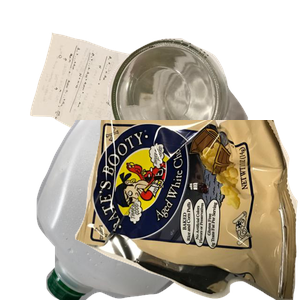glass: (105, 36, 300, 201)
paper: (27, 30, 203, 178)
plastic: (34, 120, 274, 300)
trash: (75, 120, 300, 300)
